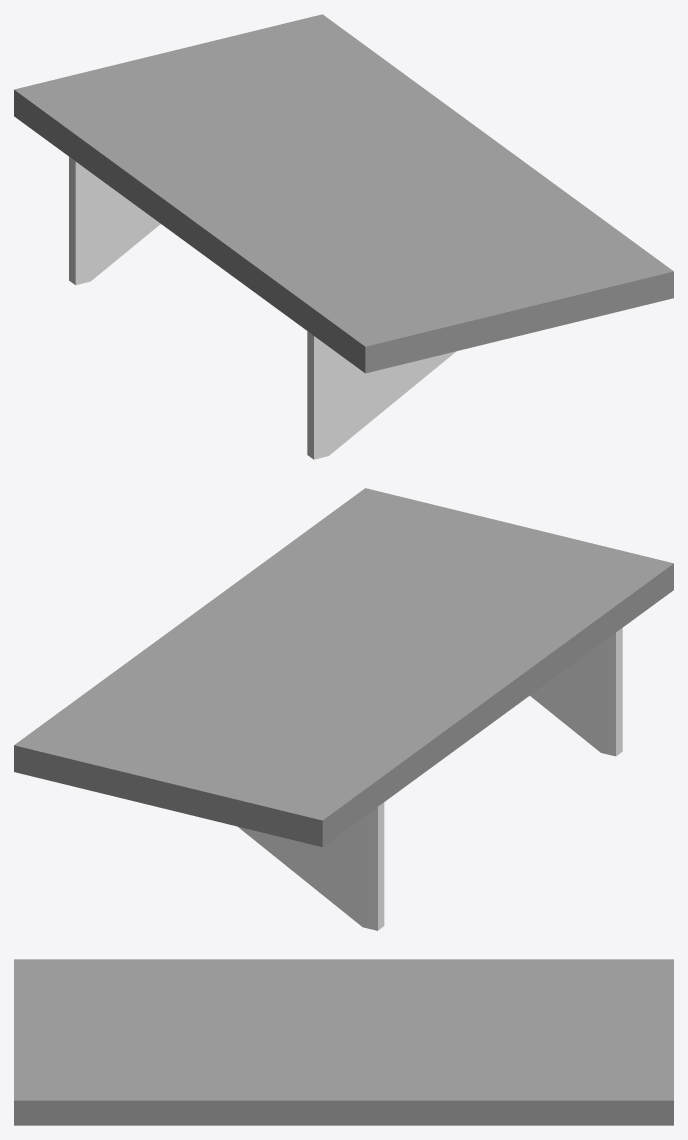
The model's file is Prop_shelf_v01.fbx.
The picture shows the model from 3 angles, top to bottom: view 1: azimuth 30°, elevation 25°; view 2: azimuth 150°, elevation 25°; view 3: azimuth 270°, elevation 25°; orthographic projection. The views are drawn at different scales.
Parts seen in each view (by area): view 1: Truck_Shelf, Truck_ShelfHolder_01, Truck_ShelfHolder_02; view 2: Truck_Shelf, Truck_ShelfHolder_02, Truck_ShelfHolder_01; view 3: Truck_Shelf.
Boxes of the visible parts, bbox=[...] form: Truck_Shelf: bbox=[14, 14, 673, 373]; Truck_ShelfHolder_01: bbox=[307, 331, 455, 459]; Truck_ShelfHolder_02: bbox=[69, 157, 160, 285]; Truck_Shelf: bbox=[14, 488, 673, 847]; Truck_ShelfHolder_02: bbox=[238, 802, 384, 930]; Truck_ShelfHolder_01: bbox=[530, 628, 622, 756]; Truck_Shelf: bbox=[14, 959, 673, 1125].
Bounding box in the file's own units: 12.39 × 5.78 × 24.42.
